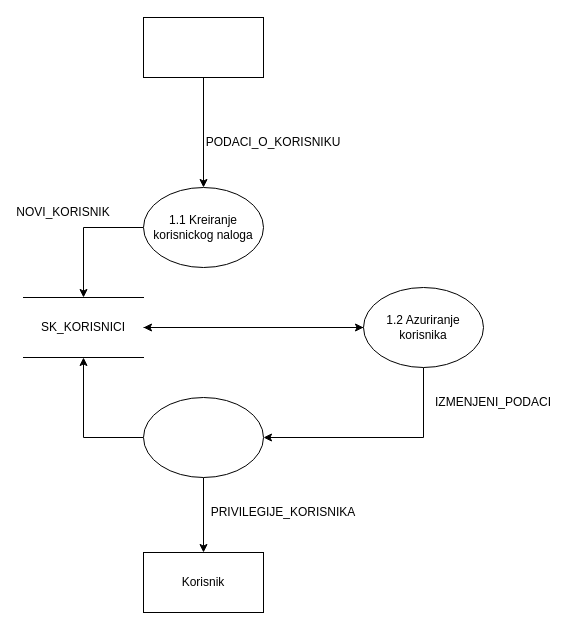
Image size: 569x630. Some labels were removed from this diagram. The centre of each missing label's shape, as x and y in pixels:
"1.3 Upravljanje pristupima" belongs at (x=203, y=437).
"Administrator" belongs at (x=203, y=47).
